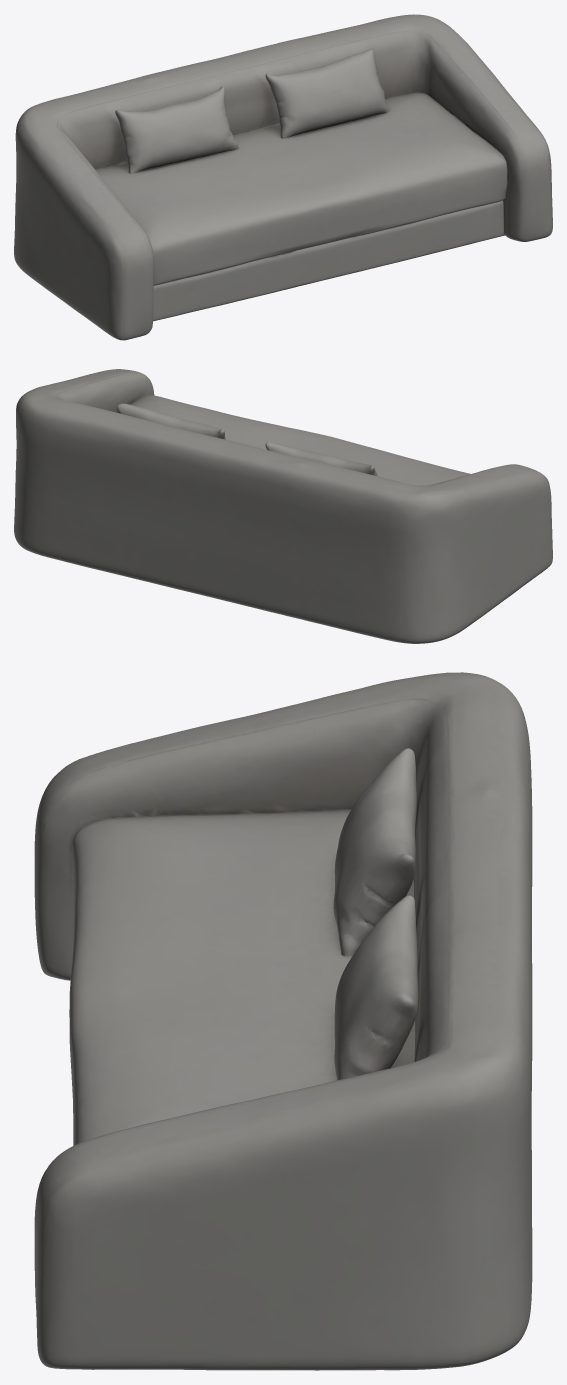
3 renders of one model, top to bottom at view 1: azimuth 30°, elevation 25°; view 2: azimuth 150°, elevation 25°; view 3: azimuth 270°, elevation 25°, orthographic. The views are drawn at different scales.
Visible parts, largest first — view 1: tripo_node_86d7342d-2adc-409f-9d3f-bfccf851ce7b; view 2: tripo_node_86d7342d-2adc-409f-9d3f-bfccf851ce7b; view 3: tripo_node_86d7342d-2adc-409f-9d3f-bfccf851ce7b.
Boxes of the visible parts, x1,y1,x2,y2 form: tripo_node_86d7342d-2adc-409f-9d3f-bfccf851ce7b: (14,14,552,340); tripo_node_86d7342d-2adc-409f-9d3f-bfccf851ce7b: (14,369,552,643); tripo_node_86d7342d-2adc-409f-9d3f-bfccf851ce7b: (34,672,532,1370).
Size of the model in its own units: 2.65 by 0.85 by 1.29.
1 material, 1 textured.
